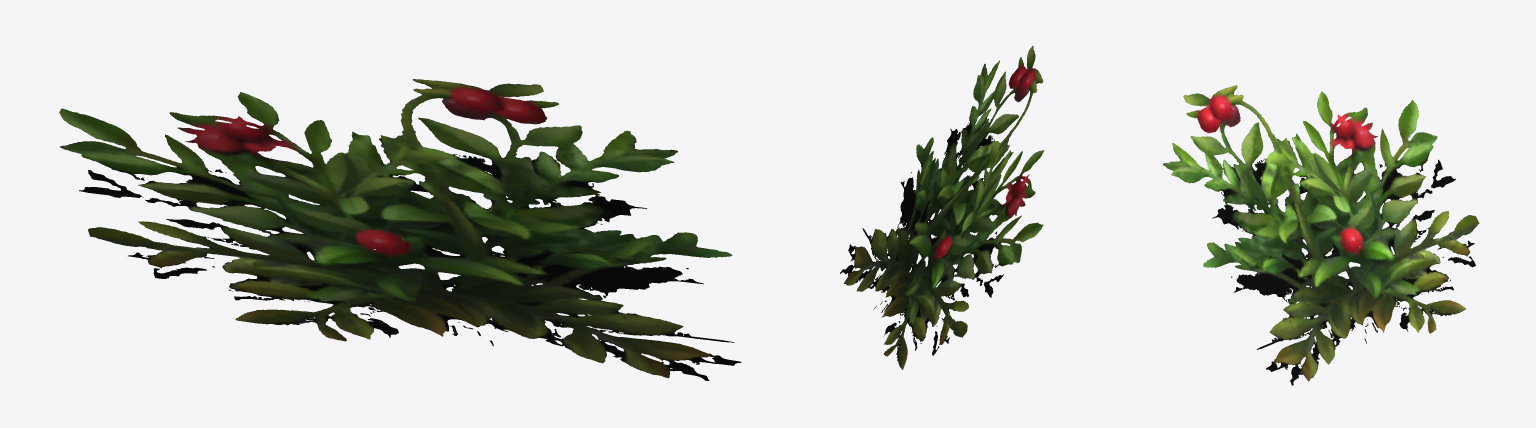
Rendered from caoyao004_53_35_3626out.fbx.
3 views of the same model, side by side, from view 1: azimuth 30°, elevation 25°; view 2: azimuth 150°, elevation 25°; view 3: azimuth 270°, elevation 25° (orthographic). The views are drawn at different scales.
Visible parts, largest first — view 1: caoyao004; view 2: caoyao004; view 3: caoyao004.
Boxes of the visible parts, left/top/right/bottom form: caoyao004: left=59, top=79, right=741, bottom=380; caoyao004: left=840, top=46, right=1044, bottom=369; caoyao004: left=1163, top=85, right=1479, bottom=385.
Bounding box in the file's own units: 2.89 × 1.94 × 2.93.
